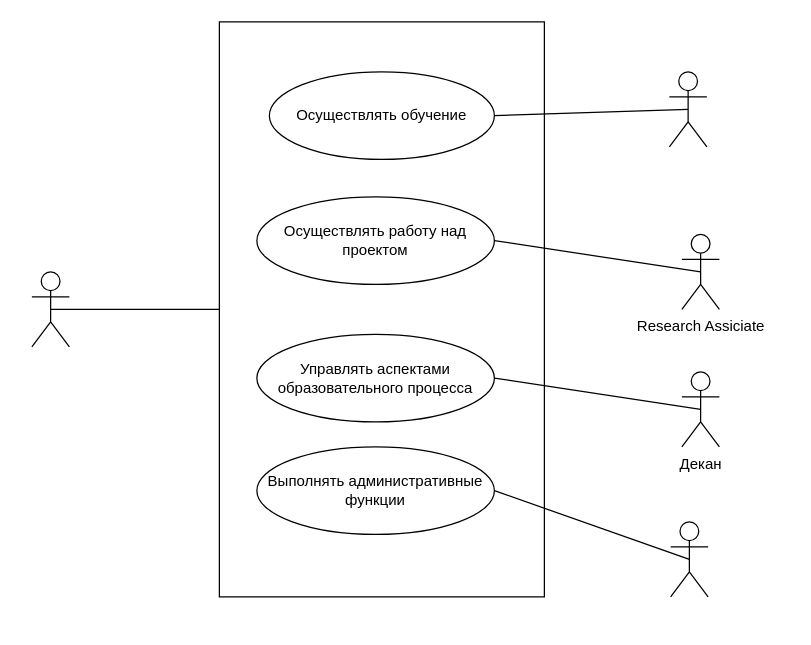
Some shapes in this 811 by 645 pixel diagram are drawn without their labels. Each missing label, with the centre of its shape:
"Административный работник" belongs at (688,559).
"Преподаватель" belongs at (687,109).
"Студент" belongs at (50,309).
